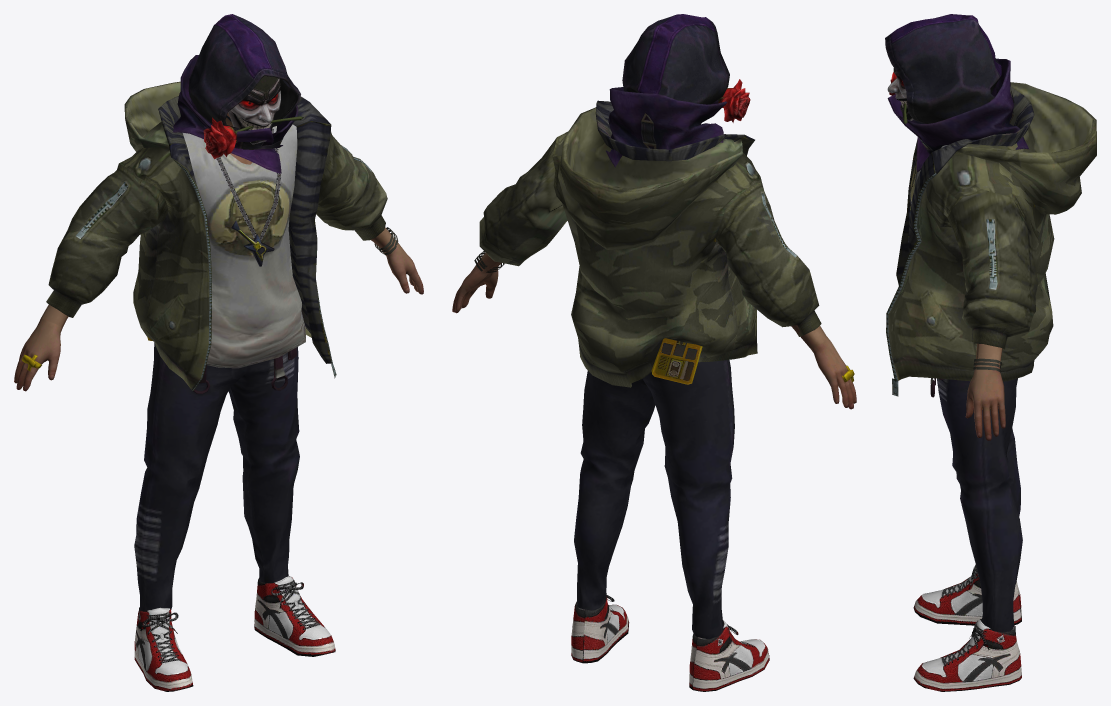
3 renders of one model, left to right at view 1: azimuth 30°, elevation 25°; view 2: azimuth 150°, elevation 25°; view 3: azimuth 270°, elevation 25°, orthographic.
Visible parts, largest first — view 1: Mesh_1430.rip_noesis_meshnode_0000, Mesh_1420.rip_noesis_meshnode_0000, Mesh_1397.rip_noesis_meshnode_0000, Mesh_1410.rip_noesis_meshnode_0000, Mesh_0112.rip_Mesh_0112.rip.001, Mesh_1396.rip_noesis_meshnode_0000; view 2: Mesh_1430.rip_noesis_meshnode_0000, Mesh_1420.rip_noesis_meshnode_0000, Mesh_1397.rip_noesis_meshnode_0000, Mesh_1410.rip_noesis_meshnode_0000, Mesh_0112.rip_Mesh_0112.rip.001, Mesh_1396.rip_noesis_meshnode_0000; view 3: Mesh_1430.rip_noesis_meshnode_0000, Mesh_1397.rip_noesis_meshnode_0000, Mesh_1420.rip_noesis_meshnode_0000, Mesh_1410.rip_noesis_meshnode_0000, Mesh_0112.rip_Mesh_0112.rip.001, Mesh_1396.rip_noesis_meshnode_0000.
Part boxes in pixels (<box>): Mesh_1430.rip_noesis_meshnode_0000: <box>22,81,398,390</box>; Mesh_1420.rip_noesis_meshnode_0000: <box>134,342,299,611</box>; Mesh_1397.rip_noesis_meshnode_0000: <box>172,14,300,173</box>; Mesh_1410.rip_noesis_meshnode_0000: <box>134,576,335,691</box>; Mesh_0112.rip_Mesh_0112.rip.001: <box>14,112,423,391</box>; Mesh_1396.rip_noesis_meshnode_0000: <box>203,76,303,159</box>; Mesh_1430.rip_noesis_meshnode_0000: <box>474,100,854,387</box>; Mesh_1420.rip_noesis_meshnode_0000: <box>574,360,734,638</box>; Mesh_1397.rip_noesis_meshnode_0000: <box>606,14,729,167</box>; Mesh_1410.rip_noesis_meshnode_0000: <box>571,595,769,691</box>; Mesh_0112.rip_Mesh_0112.rip.001: <box>452,252,856,409</box>; Mesh_1396.rip_noesis_meshnode_0000: <box>718,79,750,122</box>; Mesh_1430.rip_noesis_meshnode_0000: <box>886,82,1096,396</box>; Mesh_1397.rip_noesis_meshnode_0000: <box>885,14,1028,171</box>; Mesh_1420.rip_noesis_meshnode_0000: <box>930,378,1022,632</box>; Mesh_1410.rip_noesis_meshnode_0000: <box>913,564,1021,691</box>; Mesh_0112.rip_Mesh_0112.rip.001: <box>965,343,1005,440</box>; Mesh_1396.rip_noesis_meshnode_0000: <box>887,68,913,124</box>.
Bounding box in the file's own units: 0.3133 × 0.4758 × 0.1441.
